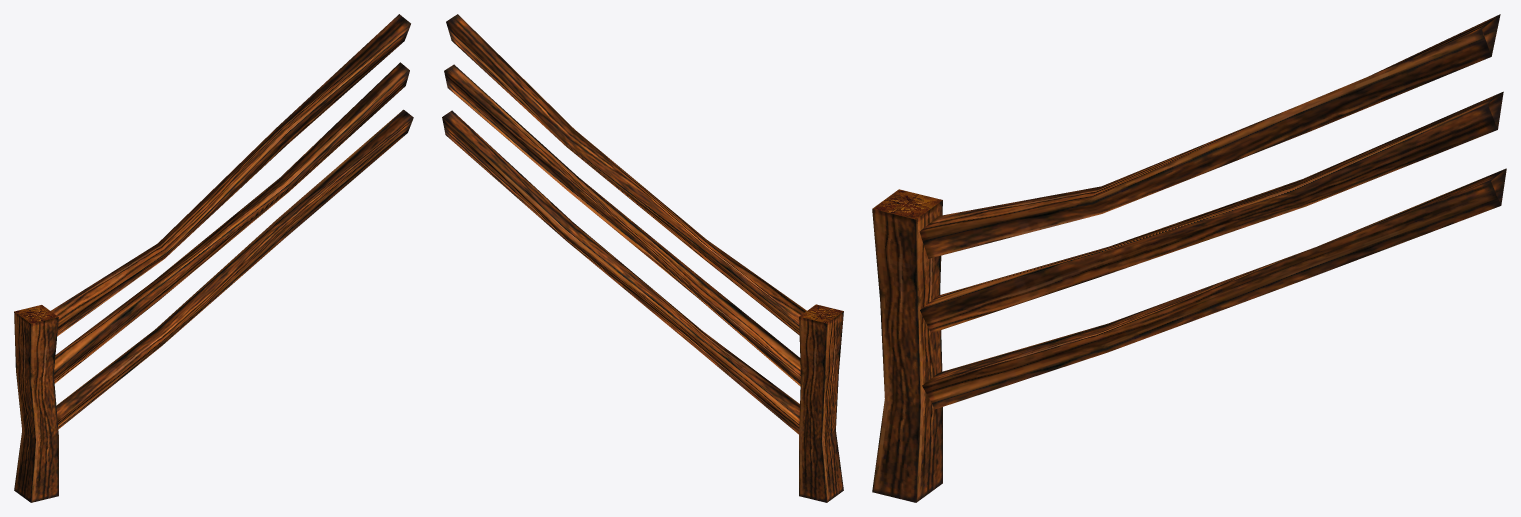
File: INST_HTOWN_FENCEBRN30DEG.fbx
3 views of the same model, side by side, from view 1: azimuth 30°, elevation 25°; view 2: azimuth 150°, elevation 25°; view 3: azimuth 330°, elevation 25° (orthographic). The views are drawn at different scales.
Visible parts, largest first — view 1: INST_HTOWN_FENCEBRN30DEG; view 2: INST_HTOWN_FENCEBRN30DEG; view 3: INST_HTOWN_FENCEBRN30DEG.
Boxes of the visible parts, <box> form: INST_HTOWN_FENCEBRN30DEG: <box>14,14,413,502</box>; INST_HTOWN_FENCEBRN30DEG: <box>442,14,843,502</box>; INST_HTOWN_FENCEBRN30DEG: <box>872,14,1506,502</box>.
Size of the model in its own units: 30236 by 28727 by 2372.
2 materials, 2 textured.
